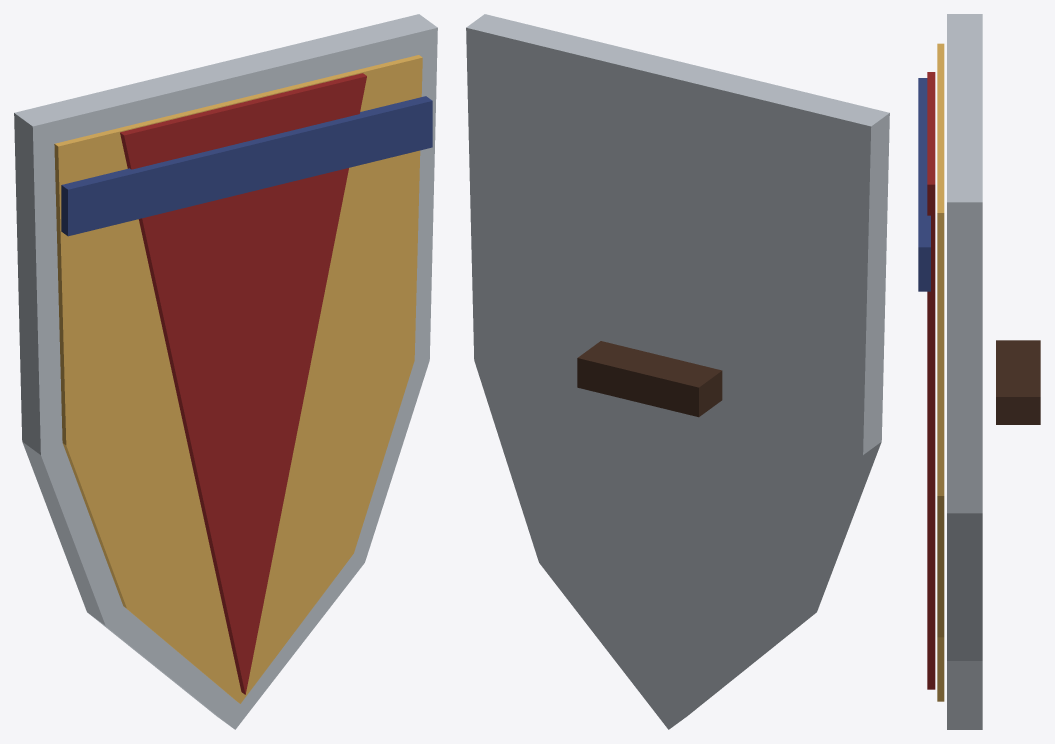
Rendered from knight-shield.glb.
The picture shows the model from 3 angles, left to right: view 1: azimuth 30°, elevation 25°; view 2: azimuth 150°, elevation 25°; view 3: azimuth 270°, elevation 25°; orthographic projection. The views are drawn at different scales.
Visible parts, largest first — view 1: GoldField, RedPile, Rim, BlueRibbon; view 2: Rim, Grip; view 3: Rim, GoldField, RedPile, Grip, BlueRibbon.
Boxes of the visible parts, x1,y1,x2,y2 form: GoldField: [54, 55, 422, 703]; RedPile: [120, 73, 366, 694]; Rim: [14, 14, 437, 729]; BlueRibbon: [61, 96, 432, 236]; Rim: [466, 14, 889, 729]; Grip: [577, 341, 722, 417]; Rim: [947, 14, 982, 729]; GoldField: [937, 43, 944, 701]; RedPile: [927, 72, 935, 689]; Grip: [996, 340, 1040, 424]; BlueRibbon: [918, 78, 930, 291].
Bounding box in the file's own units: 0.5 × 0.77 × 0.137.
